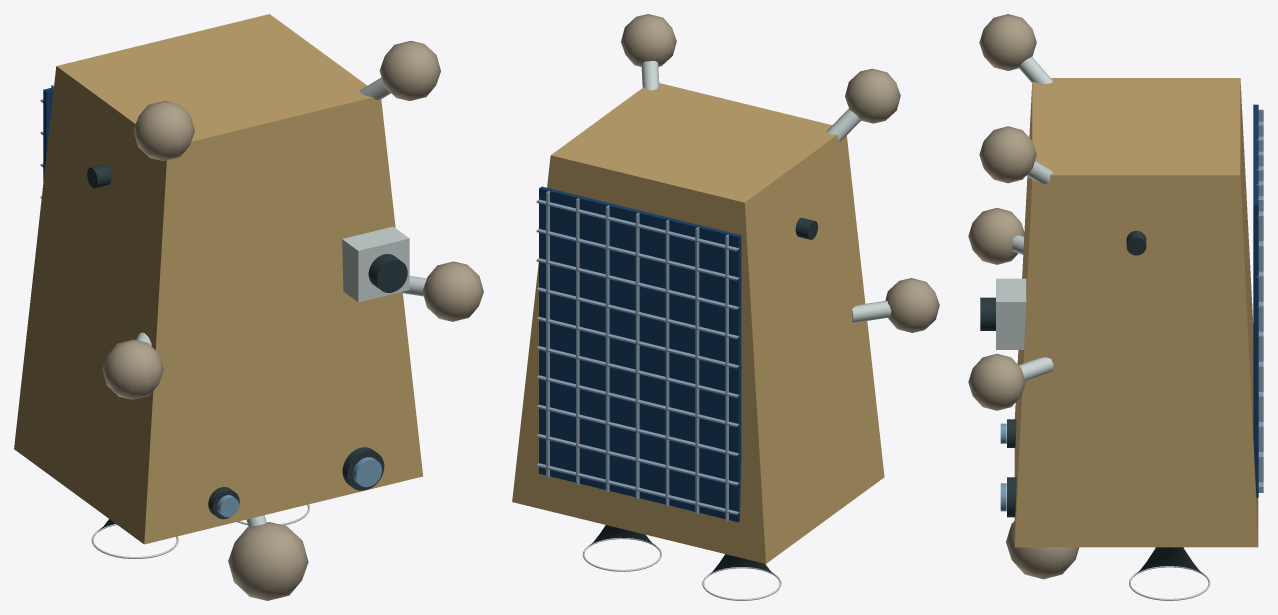
The model's file is slim.glb.
3 views of the same model, side by side, from view 1: azimuth 30°, elevation 25°; view 2: azimuth 150°, elevation 25°; view 3: azimuth 270°, elevation 25° (orthographic). The views are drawn at different scales.
Parts seen in each view (by area): view 1: SLIM-tapered-main-body, primary-crush-pad, multiband-camera-package, auxiliary-crush-pad-1, auxiliary-crush-pad-2, auxiliary-crush-pad-3, auxiliary-crush-pad-4, instruments, MBC-aperture, legs, camera-aperture; view 2: SLIM-tapered-main-body, SLIM-body-mounted-solar-array, solar, auxiliary-crush-pad-3, auxiliary-crush-pad-1, auxiliary-crush-pad-4, propulsion, legs; view 3: SLIM-tapered-main-body, auxiliary-crush-pad-4, auxiliary-crush-pad-2, auxiliary-crush-pad-3, solar, auxiliary-crush-pad-1, SLIM-body-mounted-solar-array, multiband-camera-package, primary-crush-pad, legs, propulsion, instruments (+2 smaller).
Part boxes in pixels (left/top/right/bottom): SLIM-tapered-main-body: left=14, top=14, right=422, bottom=544; primary-crush-pad: left=228, top=522, right=308, bottom=600; multiband-camera-package: left=342, top=226, right=409, bottom=302; auxiliary-crush-pad-1: left=102, top=339, right=163, bottom=399; auxiliary-crush-pad-2: left=422, top=261, right=483, bottom=321; auxiliary-crush-pad-3: left=133, top=101, right=194, bottom=161; auxiliary-crush-pad-4: left=379, top=41, right=440, bottom=100; instruments: left=208, top=447, right=384, bottom=519; MBC-aperture: left=368, top=254, right=407, bottom=292; legs: left=136, top=77, right=426, bottom=526; camera-aperture: left=353, top=457, right=381, bottom=487; SLIM-tapered-main-body: left=512, top=83, right=884, bottom=563; SLIM-body-mounted-solar-array: left=539, top=186, right=741, bottom=522; solar: left=536, top=191, right=739, bottom=521; auxiliary-crush-pad-3: left=845, top=68, right=900, bottom=123; auxiliary-crush-pad-1: left=885, top=278, right=939, bottom=332; auxiliary-crush-pad-4: left=621, top=14, right=676, bottom=66; propulsion: left=582, top=525, right=781, bottom=600; legs: left=641, top=61, right=891, bottom=322; SLIM-tapered-main-body: left=1014, top=78, right=1258, bottom=547; auxiliary-crush-pad-4: left=979, top=126, right=1036, bottom=183; auxiliary-crush-pad-2: left=968, top=353, right=1025, bottom=410; auxiliary-crush-pad-3: left=979, top=14, right=1036, bottom=70; solar: left=1257, top=109, right=1263, bottom=492; auxiliary-crush-pad-1: left=968, top=208, right=1024, bottom=264; SLIM-body-mounted-solar-array: left=1253, top=104, right=1258, bottom=497; multiband-camera-package: left=996, top=278, right=1026, bottom=349; primary-crush-pad: left=1006, top=521, right=1079, bottom=579; legs: left=1012, top=56, right=1053, bottom=381; propulsion: left=1129, top=547, right=1210, bottom=600; instruments: left=1007, top=419, right=1016, bottom=517.
Size of the model in its own units: 1.82 by 2.51 by 1.33.
